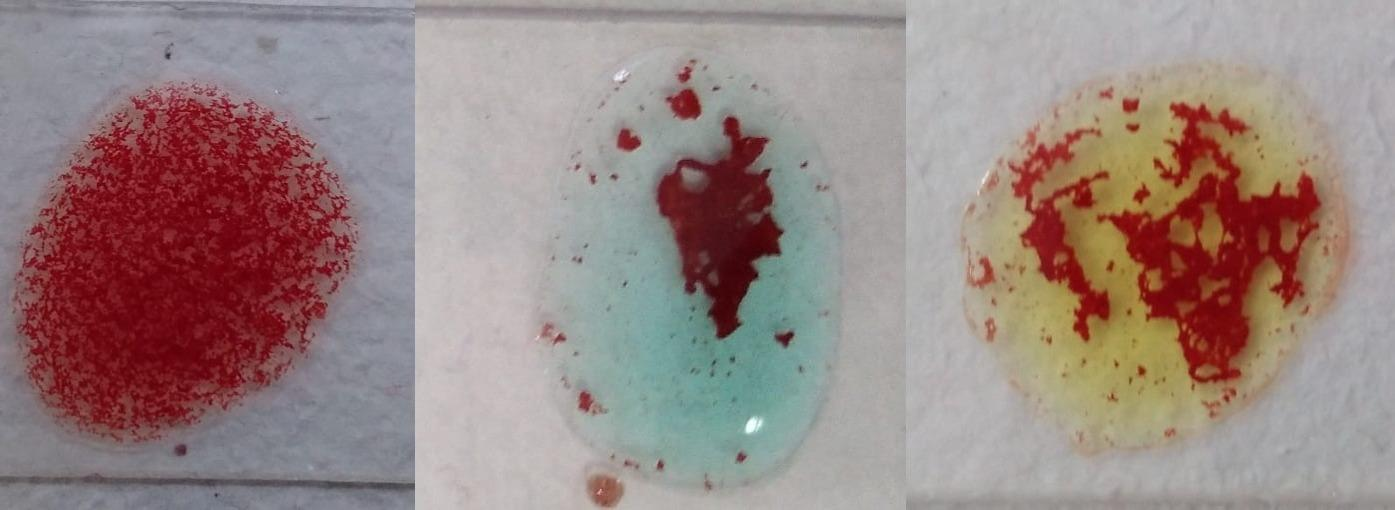A: (537, 49, 849, 488)
B: (965, 62, 1353, 442)
D: (17, 73, 351, 443)
